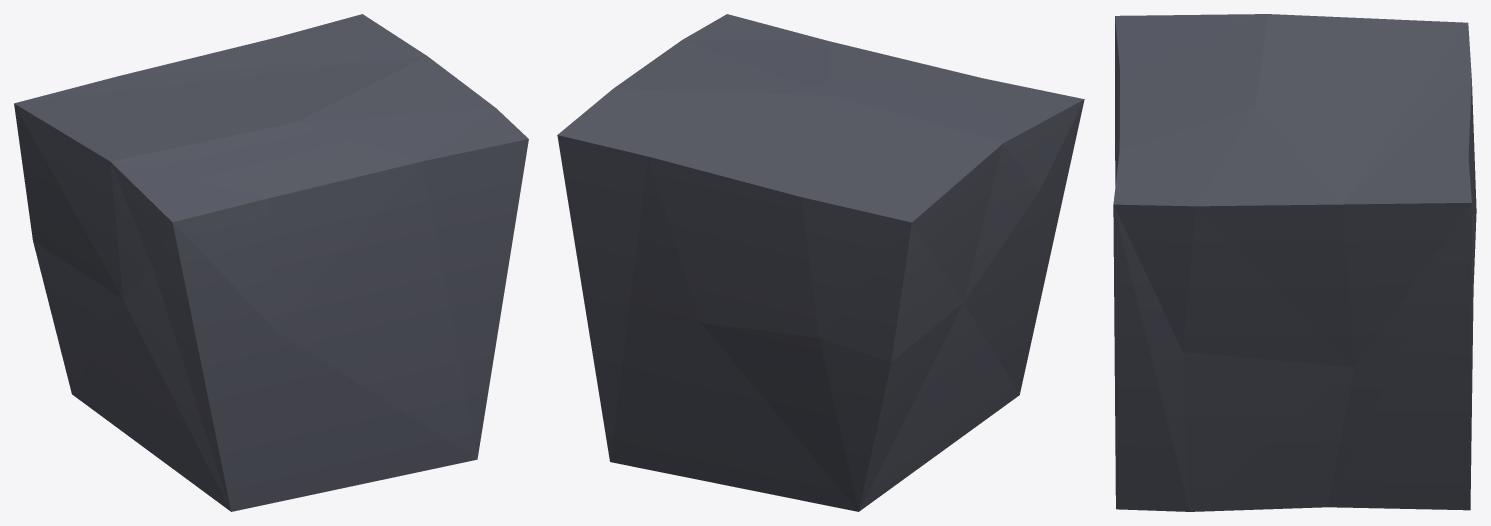
File: Ruins_06.fbx
3 renders of one model, left to right at view 1: azimuth 30°, elevation 25°; view 2: azimuth 150°, elevation 25°; view 3: azimuth 270°, elevation 25°, orthographic. The views are drawn at different scales.
Parts seen in each view (by area): view 1: Ruins_06; view 2: Ruins_06; view 3: Ruins_06.
Part boxes in pixels (x1,y1,x2,y2): Ruins_06: (14, 14, 528, 511); Ruins_06: (557, 14, 1084, 511); Ruins_06: (1113, 14, 1476, 511).
Bounding box in the file's own units: 0.6003 × 0.5169 × 0.488.
